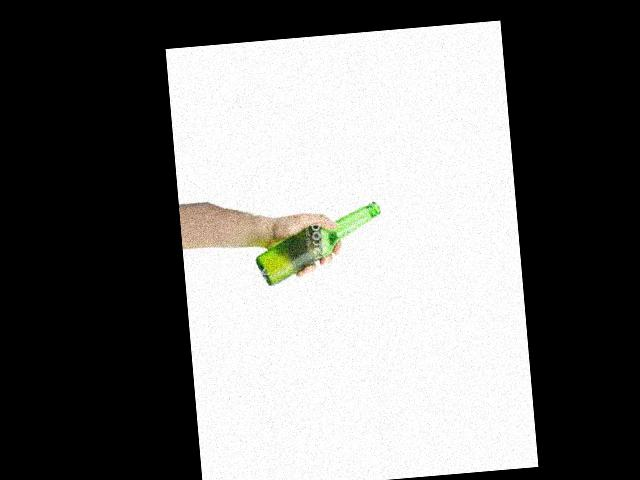beer: (252, 200, 386, 287)
